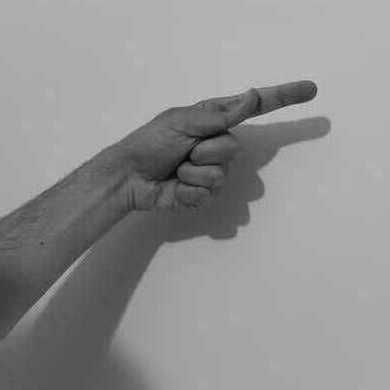G: (128, 79, 318, 212)
